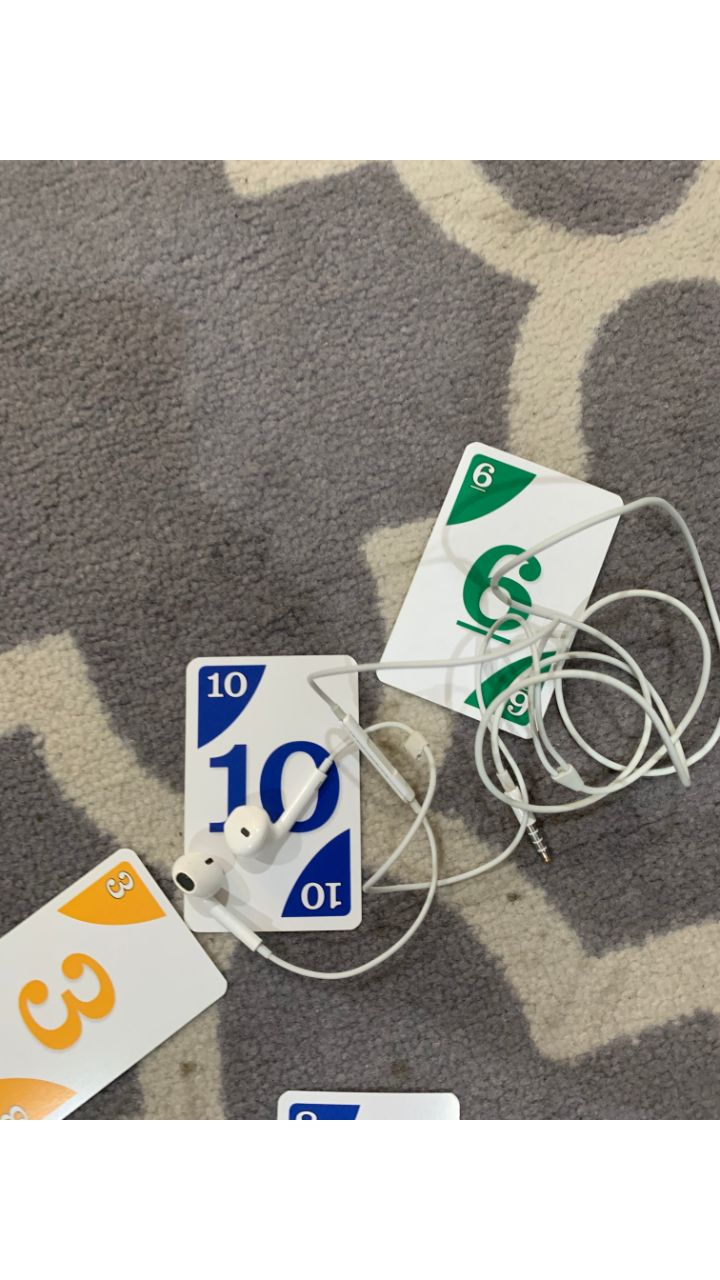six: (383, 440, 624, 745)
ten: (181, 654, 366, 937)
